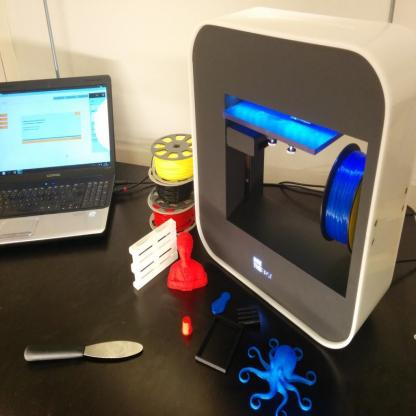board: (2, 62, 113, 258)
